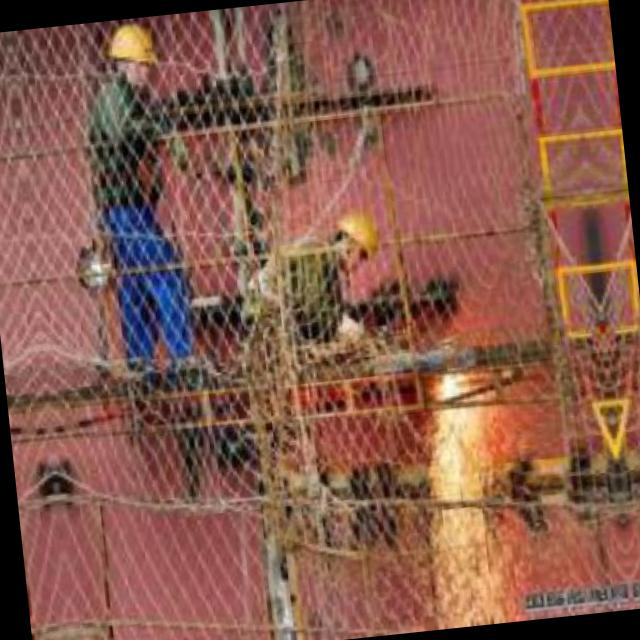helmet: (325, 202, 378, 276), (102, 24, 158, 86)
